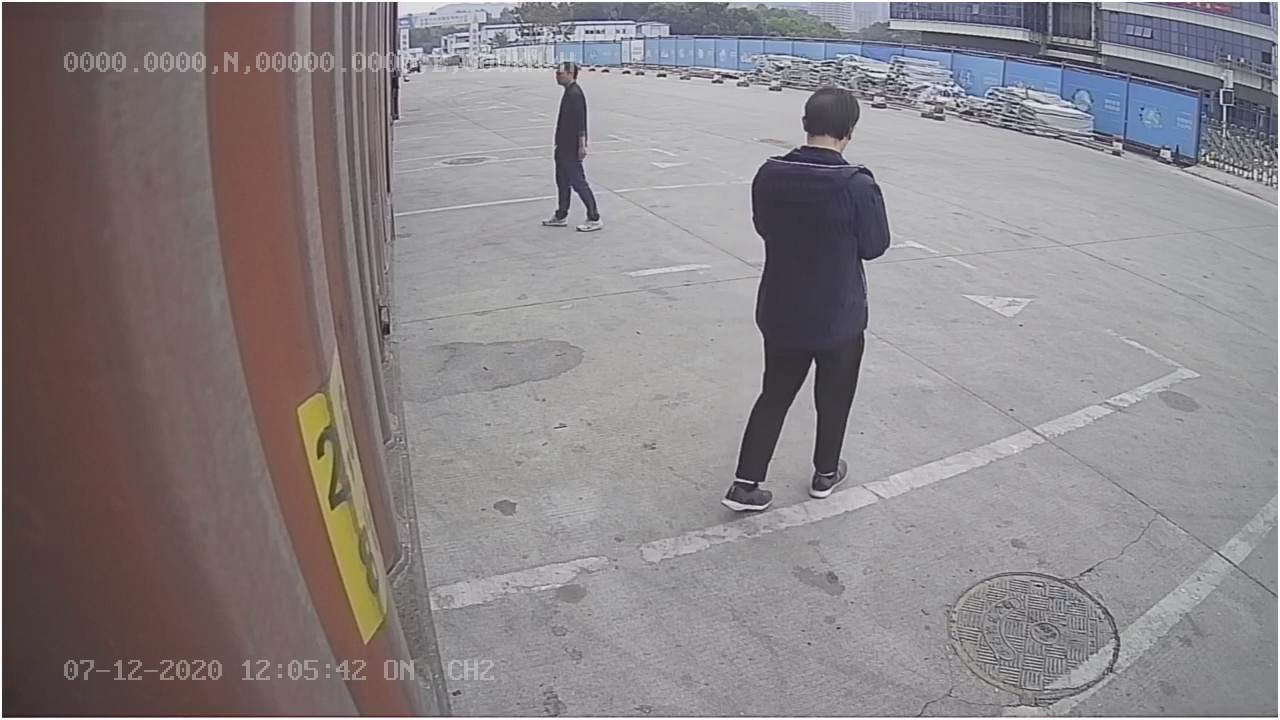person: (720, 83, 891, 513)
